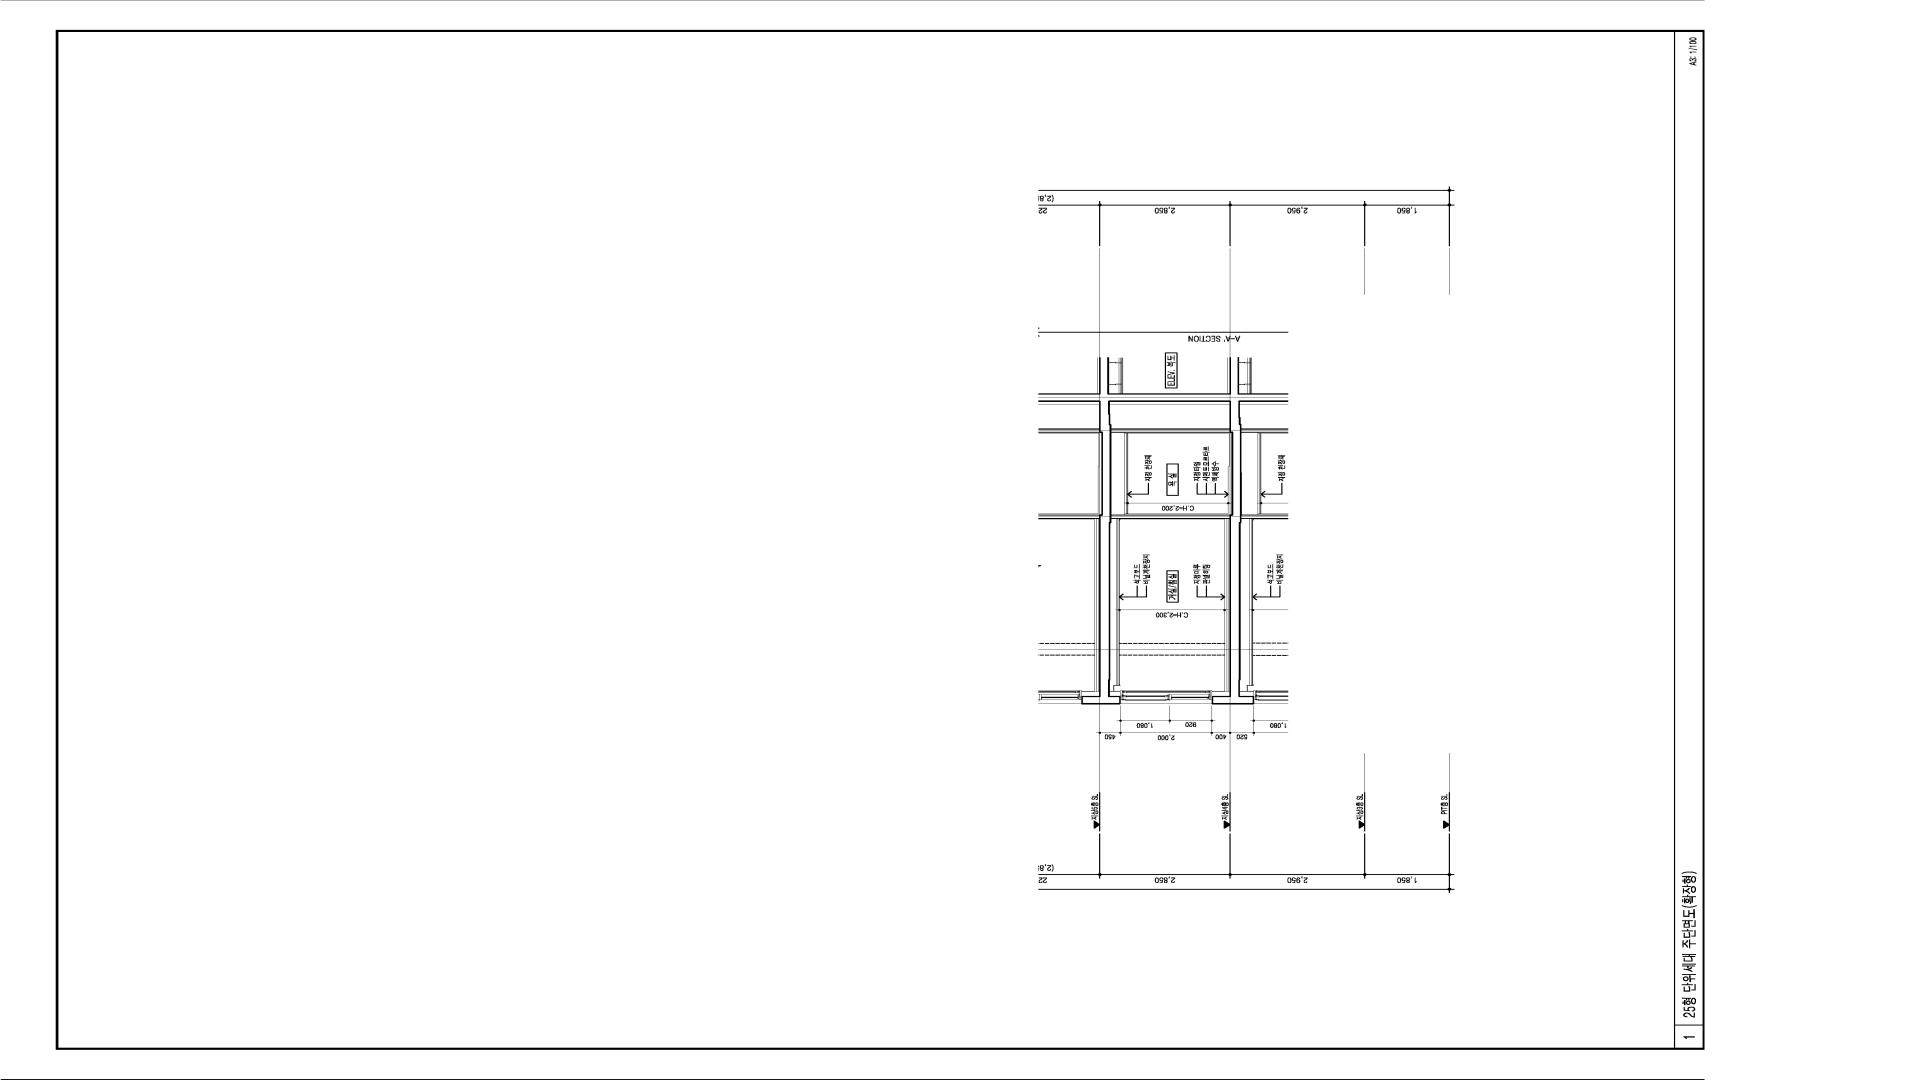wall: (1100, 357, 1242, 704), (1112, 514, 1229, 520), (1112, 429, 1229, 433)
window: (1121, 690, 1212, 704)
